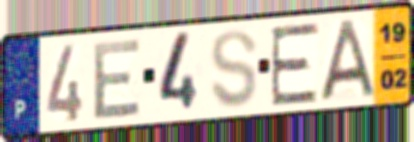4: (156, 29, 205, 118), (44, 41, 85, 124)
A: (318, 17, 377, 104)
E: (268, 20, 322, 109), (91, 35, 144, 123)
S: (208, 27, 260, 111)
